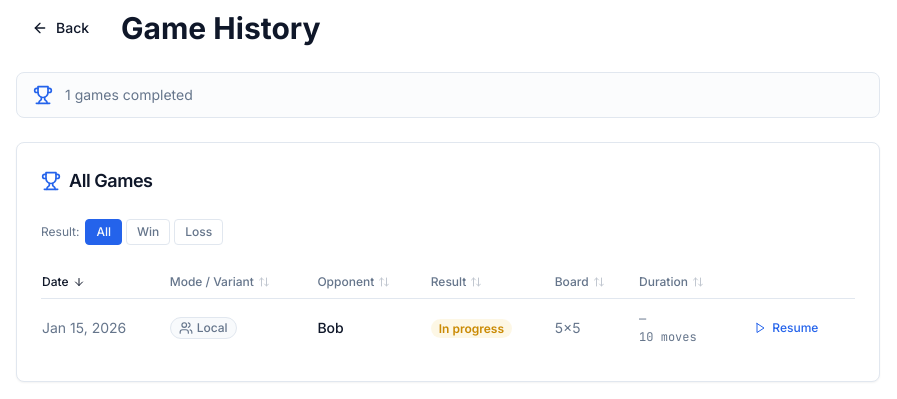
it: GameHistoryPage — result filter › excludes active games from result filter
The width and height of the screenshot is (897, 399).
Step 1. Click the button "Loss" → click(199, 232), box [174,219,223,245]
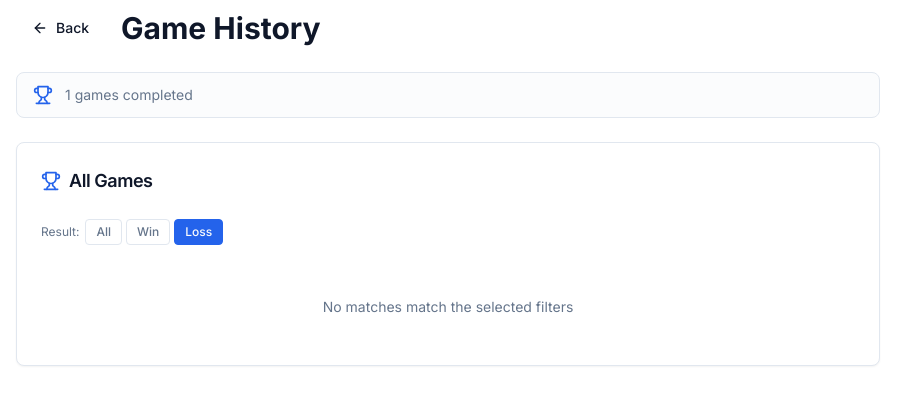
Expected: the text "No matches match the selected filters" is shown, [323,298,573,315]
